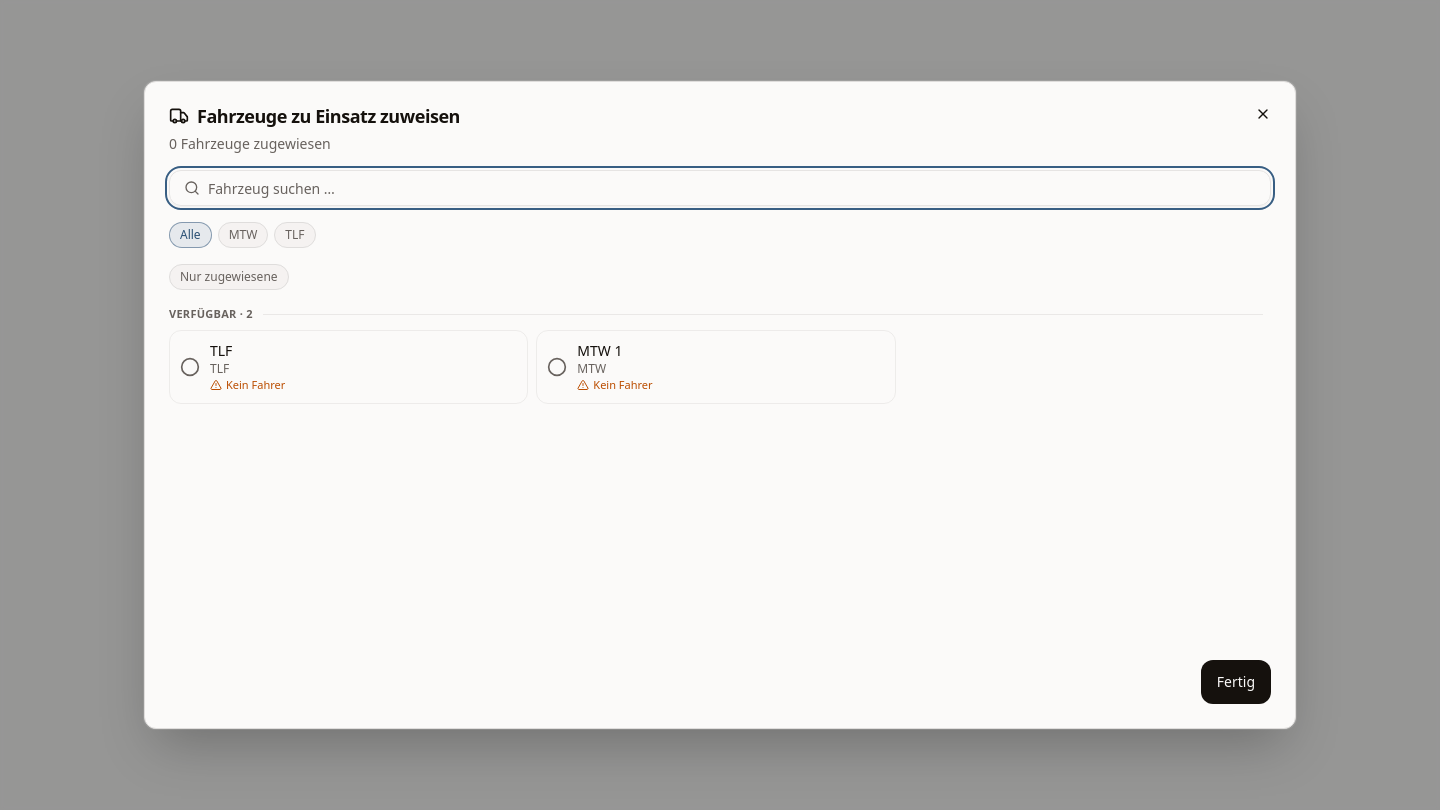
Test case: (b) the search found nothing › wins over a filter when the search alone already matches nothing
Click the button "MTW": point(243, 235) [218, 222, 268, 248]
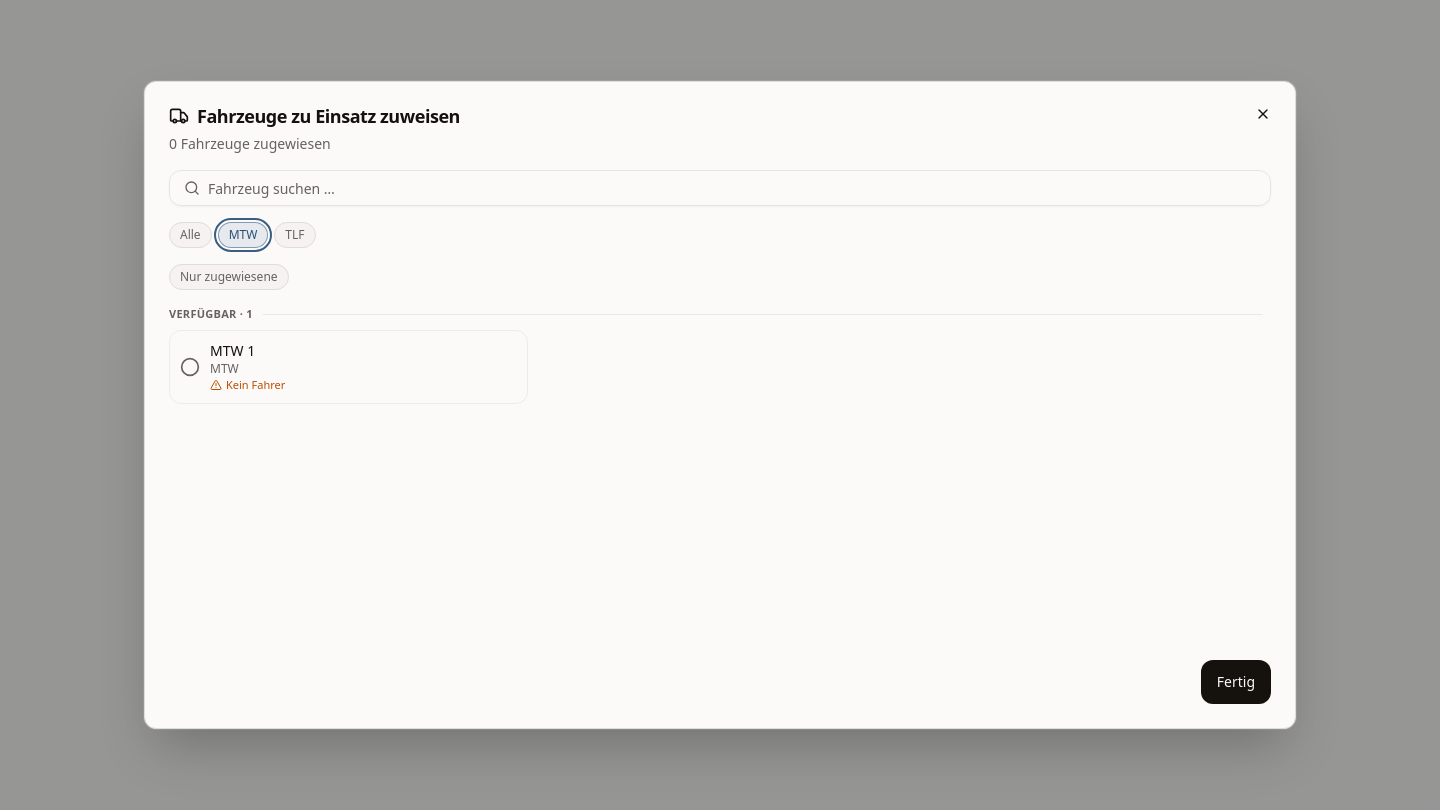
In the field with placeholder "Fahrzeug suchen …": point(720, 188) [169, 170, 1271, 206], type "xyz"
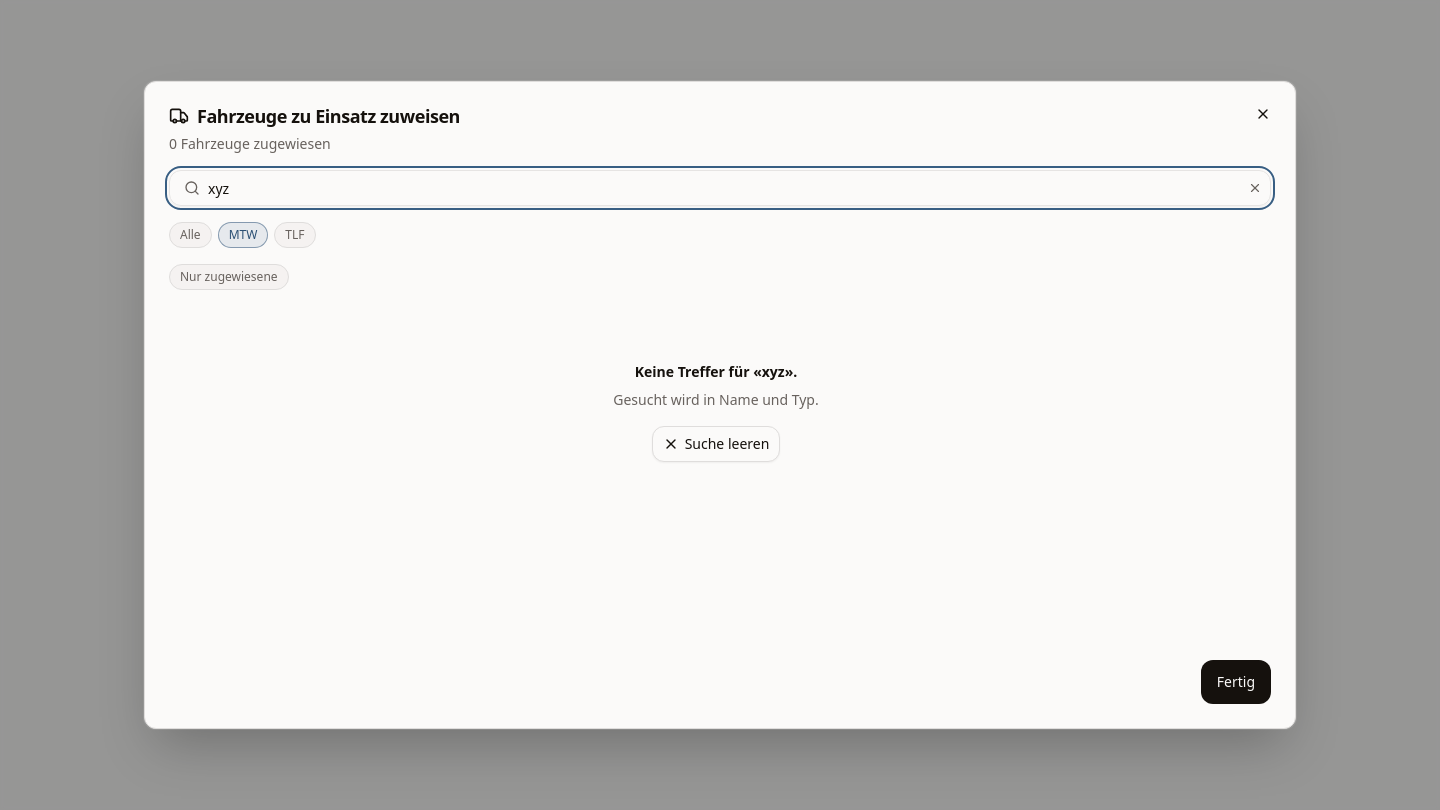
Result: the text "Keine Treffer für «xyz»." is shown at [635, 362, 797, 382]
